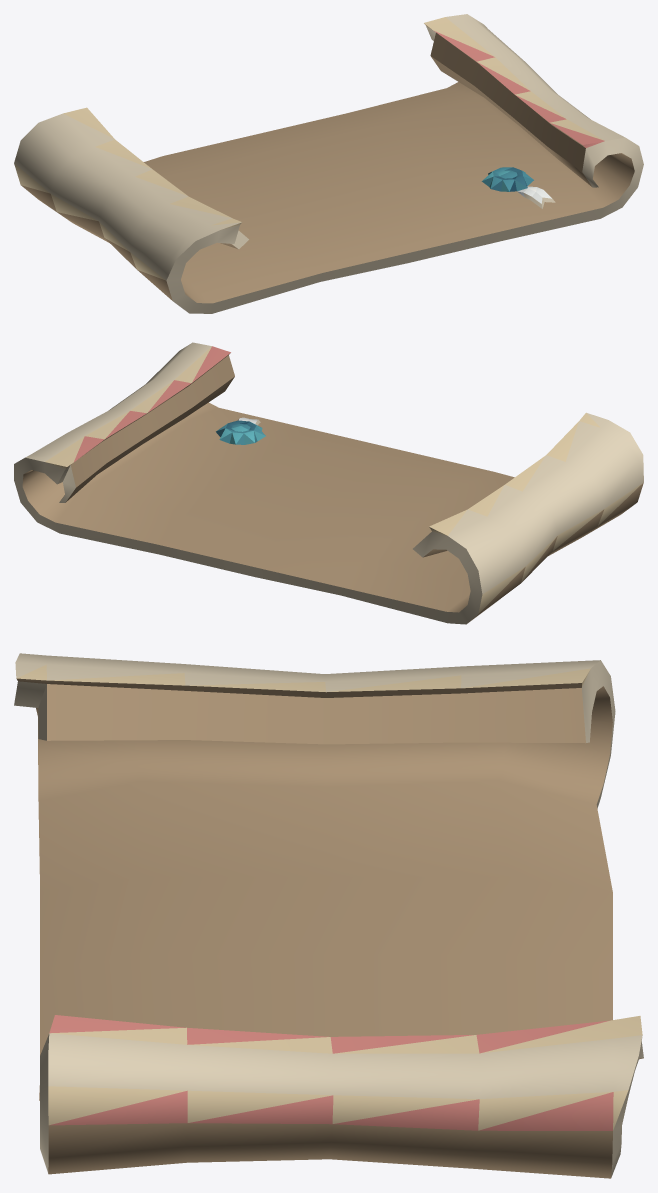
The model's file is itch_kaykit_rpg_tools_map_empty.glb.
The picture shows the model from 3 angles, top to bottom: view 1: azimuth 30°, elevation 25°; view 2: azimuth 150°, elevation 25°; view 3: azimuth 270°, elevation 25°; orthographic projection. The views are drawn at different scales.
Visible parts, largest first — view 1: map_empty; view 2: map_empty; view 3: map_empty.
Part boxes in pixels (x1,y1,x2,y2): map_empty: [14, 14, 643, 313]; map_empty: [14, 342, 643, 624]; map_empty: [14, 653, 643, 1178].
Bounding box in the file's own units: 1.18 × 0.2159 × 0.741.
